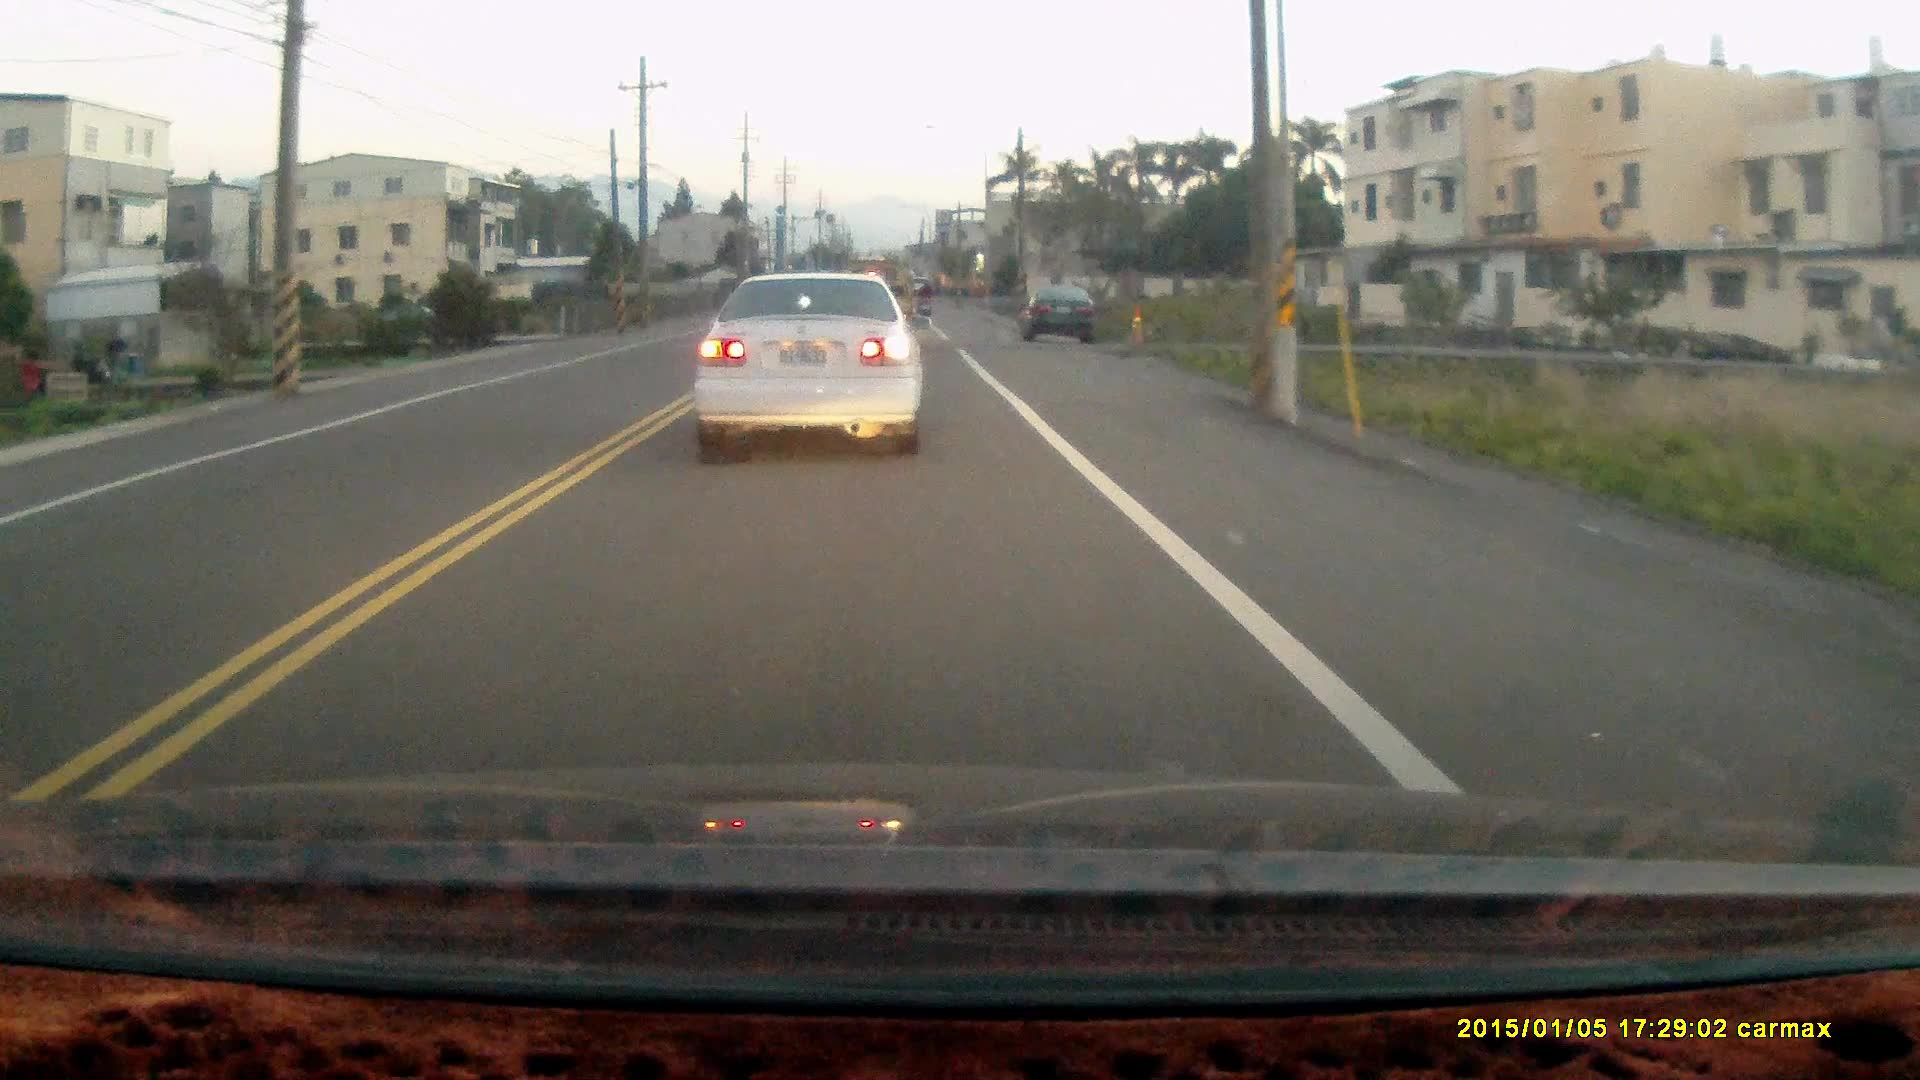pedestrian: (18, 349, 46, 414)
vehicle: (693, 270, 928, 459), (1023, 285, 1099, 346)
